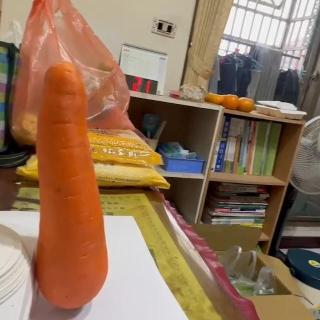carrot: (34, 60, 110, 310)
